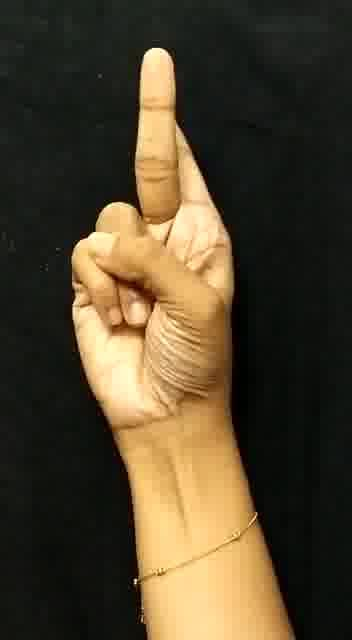kartarimukh: (50, 37, 248, 480)
